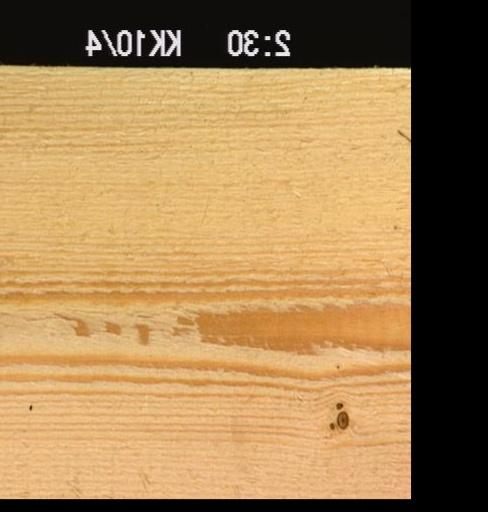dry_knot: (327, 396, 349, 434)
